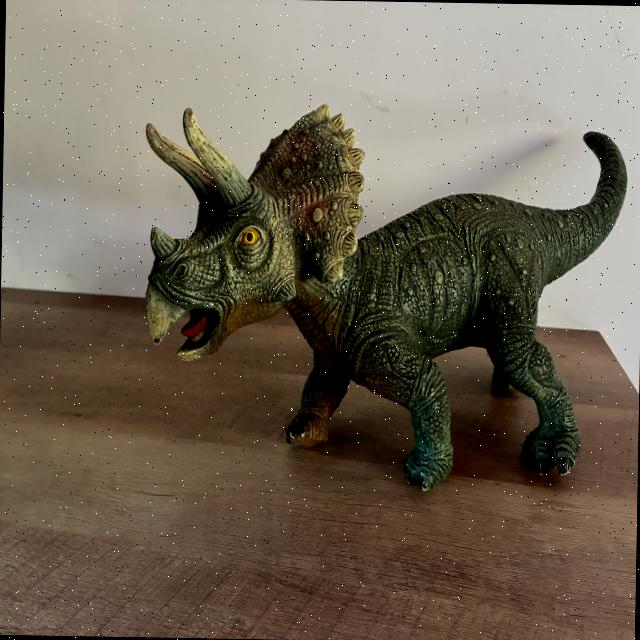dinosaur: (146, 104, 626, 489)
